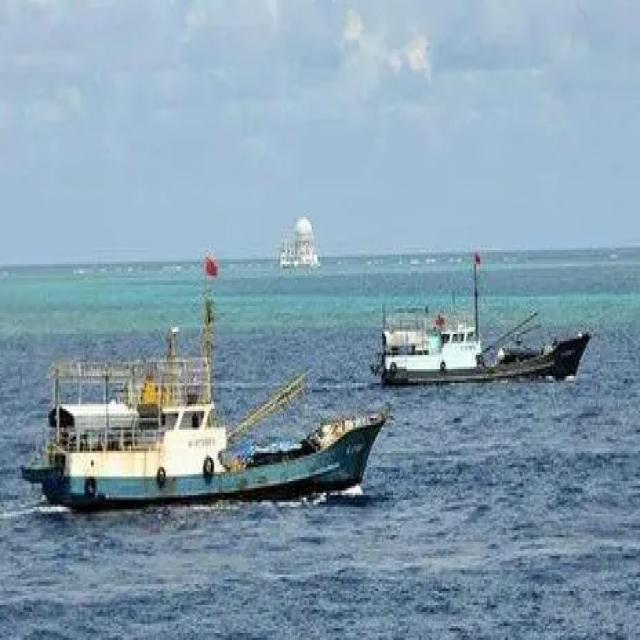fishing boat: (18, 332, 386, 504), (362, 243, 586, 392)
